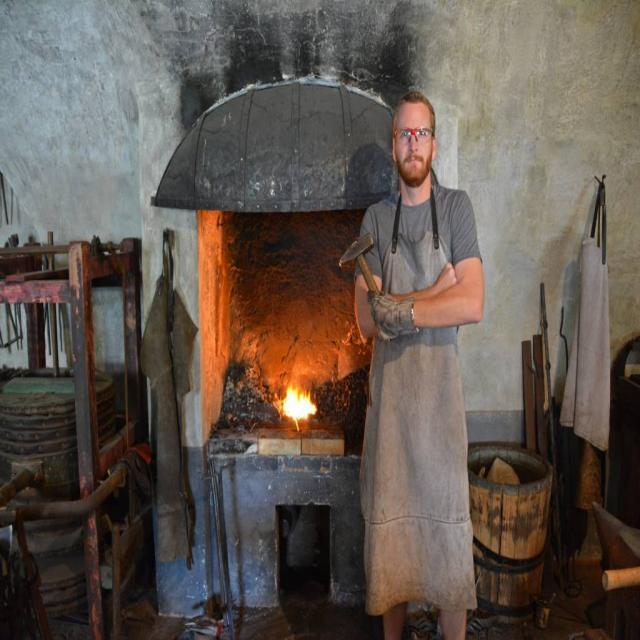hammer: (333, 222, 386, 338)
